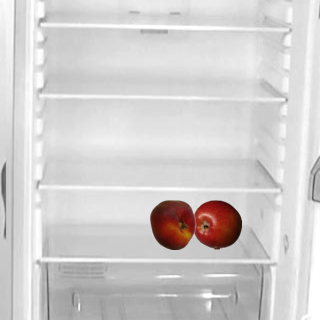Apple Braeburn: (191, 199, 241, 249)
Nectarine Flat: (147, 199, 197, 249)
